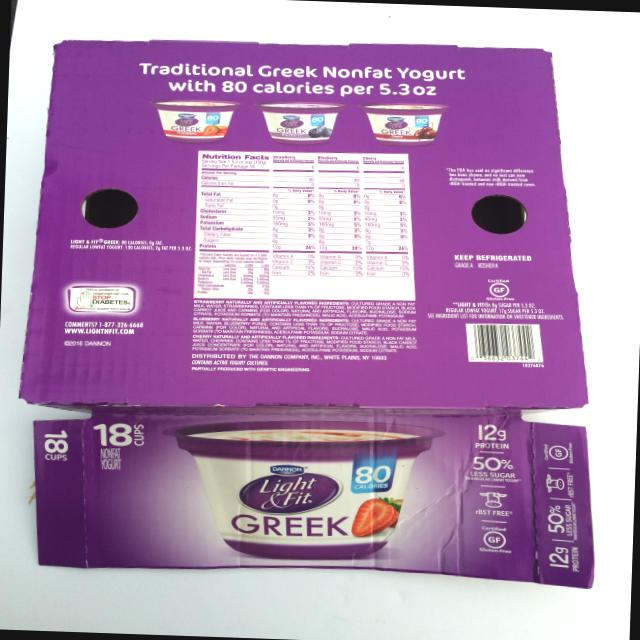Cardboard: (8, 16, 626, 593)
